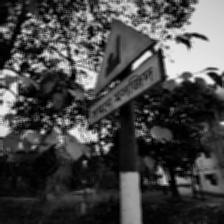Mosque in front: (87, 18, 166, 128)
